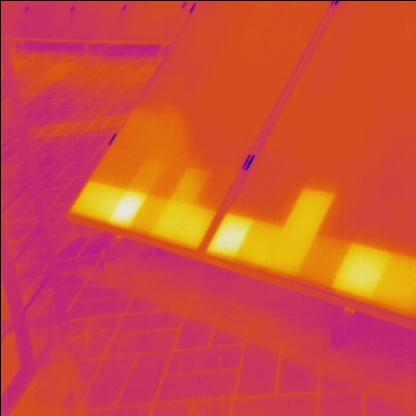hotspot: (334, 242, 392, 300), (284, 186, 338, 229), (154, 199, 208, 241), (206, 214, 252, 254), (70, 180, 116, 214), (169, 167, 209, 201), (128, 158, 164, 192), (113, 191, 144, 226)
